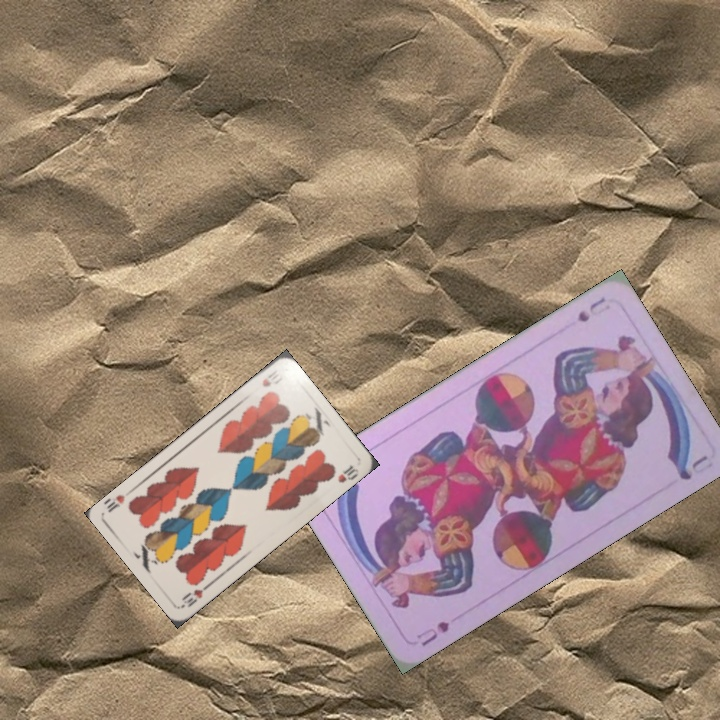H10: (178, 579, 213, 610), (258, 366, 280, 390)
SU: (412, 617, 452, 649), (573, 293, 608, 325)
